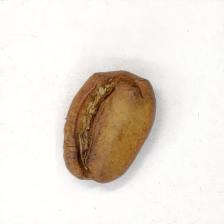NG: (72, 72, 142, 180)
